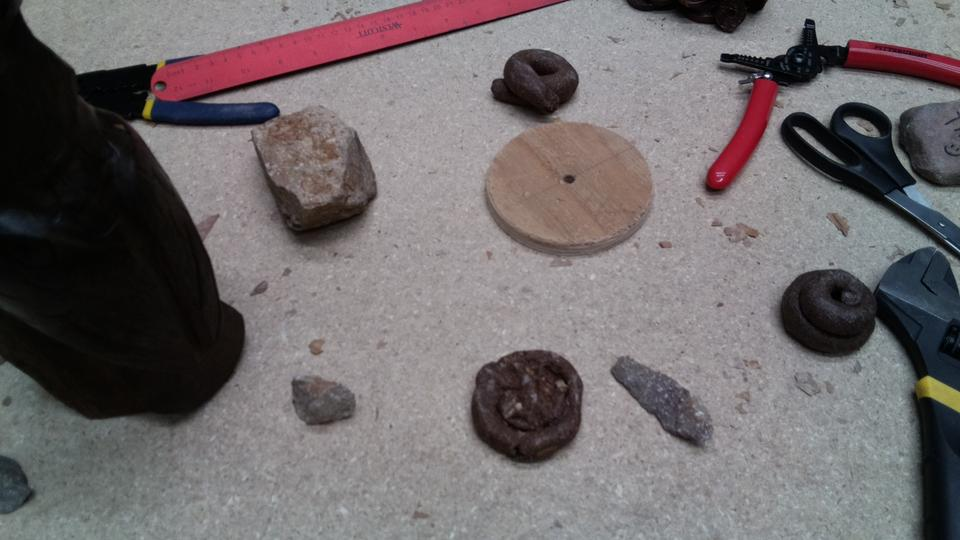poop: (467, 342, 586, 467), (776, 263, 878, 357), (490, 47, 582, 117)
